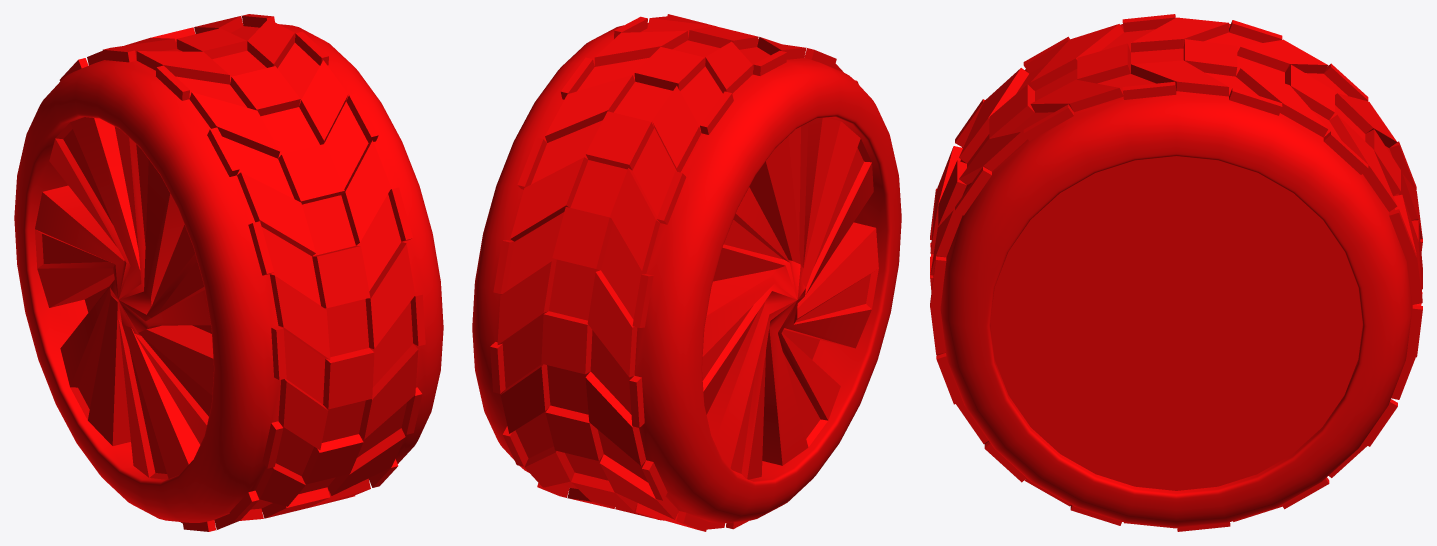
The model's file is WheelTest.fbx.
3 views of the same model, side by side, from view 1: azimuth 30°, elevation 25°; view 2: azimuth 150°, elevation 25°; view 3: azimuth 270°, elevation 25° (orthographic).
Visible parts, largest first — view 1: WheelFR; view 2: WheelFR; view 3: WheelFR.
Part boxes in pixels (bbox=[...]): WheelFR: bbox=[14, 14, 443, 531]; WheelFR: bbox=[472, 14, 901, 531]; WheelFR: bbox=[930, 14, 1422, 531].
Size of the model in its own units: 60.19 by 117 by 117.
